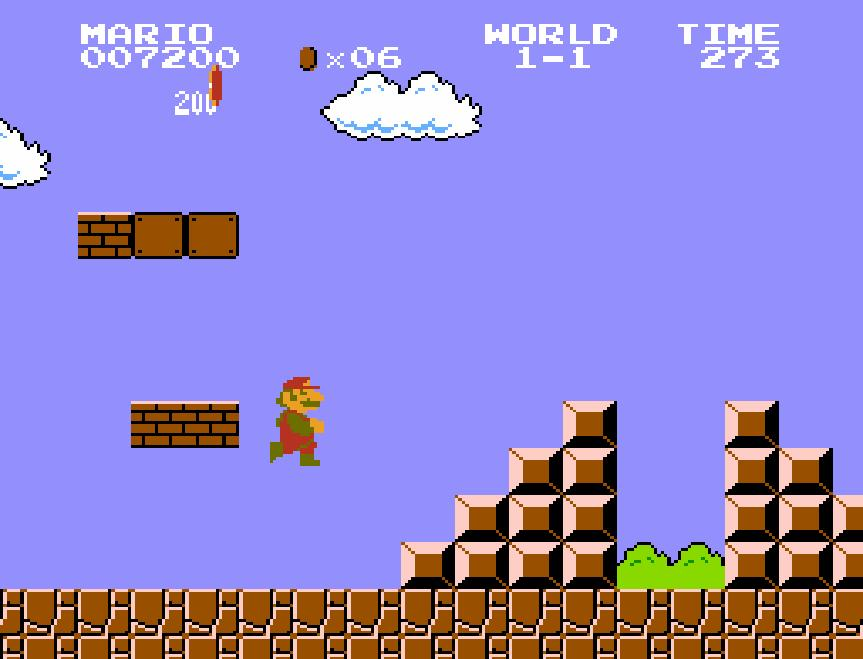big_mario: (267, 369, 325, 467)
